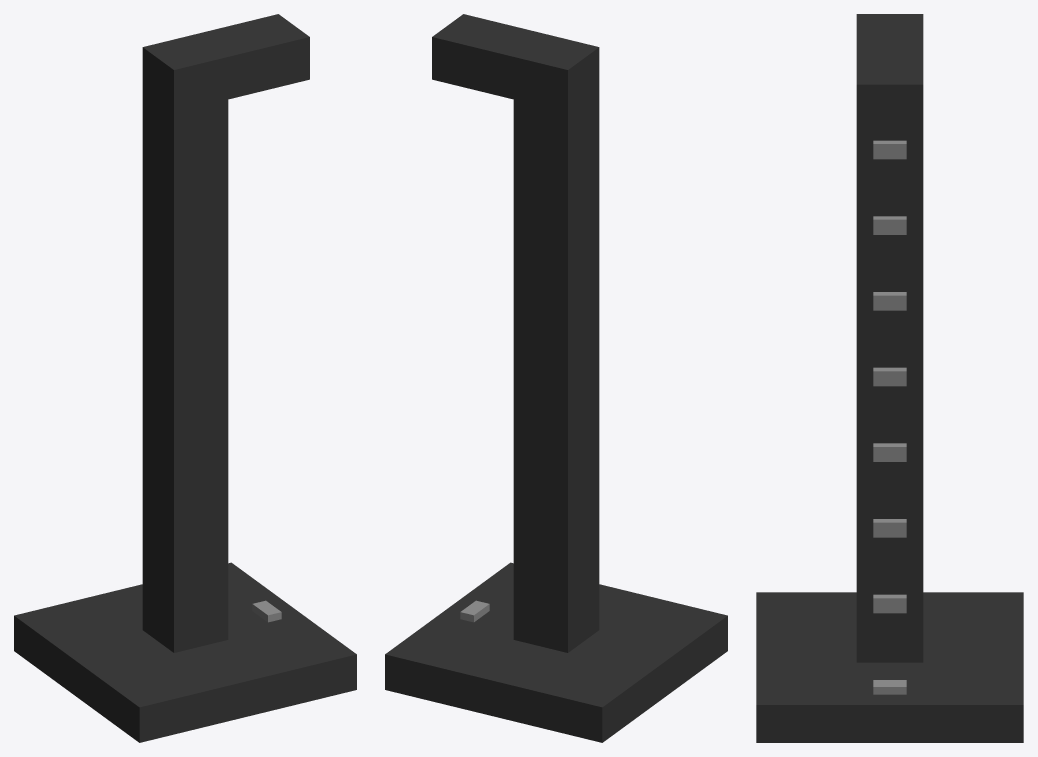
File: Portal_2.1.1.obj
The picture shows the model from 3 angles, left to right: view 1: azimuth 30°, elevation 25°; view 2: azimuth 150°, elevation 25°; view 3: azimuth 270°, elevation 25°; orthographic projection. The views are drawn at different scales.
Size of the model in its own units: 3.2 by 8.7 by 3.2.
Materials: 1 (1 with a texture image).
